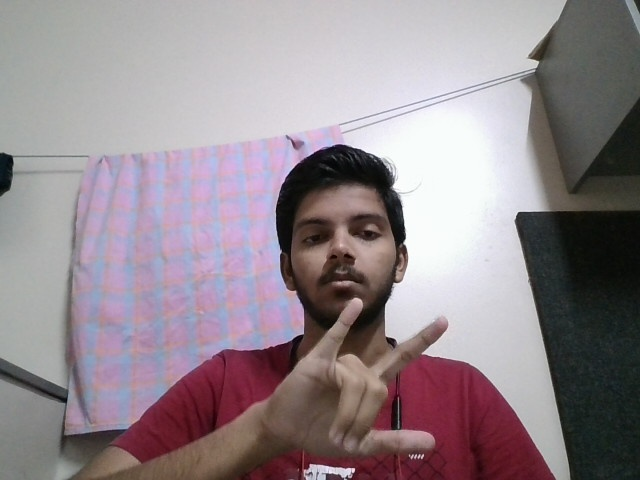I Love You: (257, 294, 452, 465)
